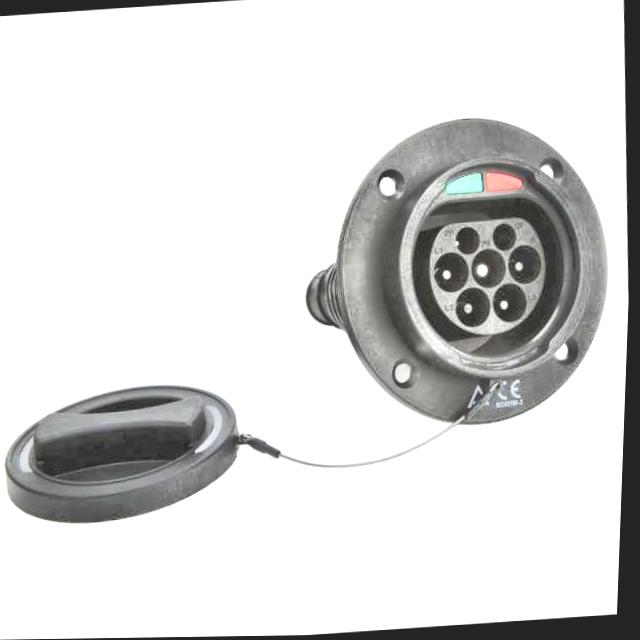inlet: (432, 219, 547, 336)
inlet-above-left: (458, 228, 482, 256)
inlet-above-right: (495, 225, 518, 253)
inlet-below-left: (458, 289, 493, 329)
inlet-below-right: (495, 284, 529, 324)
inlet-center: (474, 250, 508, 290)
inlet-center-left: (436, 253, 471, 294)
inlet-center-right: (511, 247, 544, 286)
